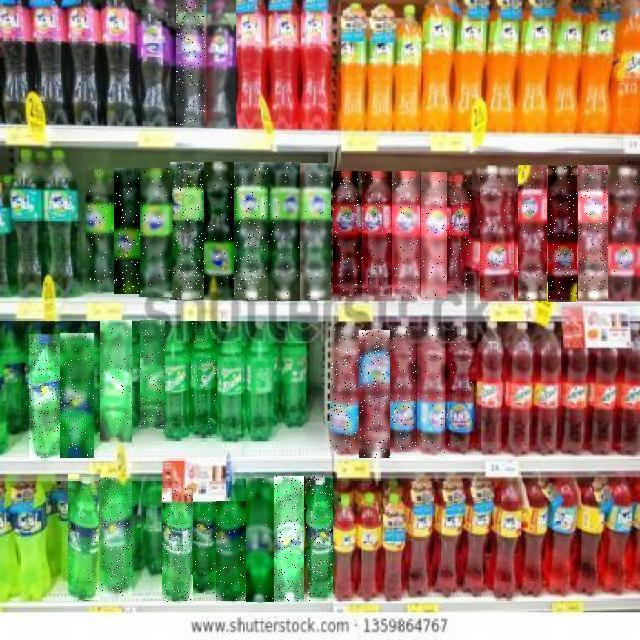Drinks: (234, 162, 268, 300), (171, 162, 205, 300), (606, 165, 640, 301), (481, 165, 515, 301), (268, 162, 300, 301), (139, 168, 172, 297), (60, 333, 94, 458), (300, 163, 331, 300), (204, 162, 234, 300), (204, 0, 236, 128), (578, 165, 608, 301), (68, 474, 100, 600), (330, 326, 361, 454), (359, 330, 390, 458), (99, 478, 132, 598), (548, 166, 577, 302), (518, 165, 547, 301), (100, 320, 132, 443), (29, 334, 60, 460), (362, 172, 392, 300), (446, 327, 476, 455), (274, 476, 304, 602), (176, 0, 206, 126), (333, 172, 362, 300), (304, 476, 333, 602), (417, 326, 445, 454), (392, 172, 420, 300), (162, 489, 193, 603), (246, 478, 274, 602), (86, 170, 114, 292), (189, 322, 217, 442), (390, 326, 416, 452), (421, 173, 447, 299), (114, 168, 140, 294), (216, 501, 246, 601), (448, 174, 472, 294), (140, 320, 165, 429), (193, 502, 216, 593)
